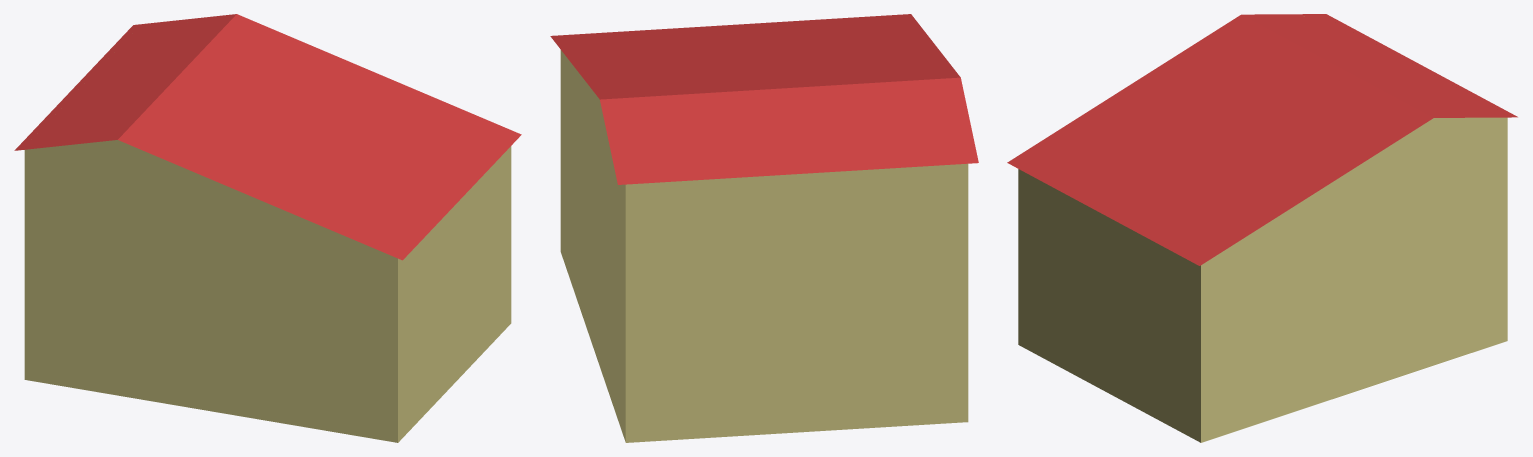
The picture shows the model from 3 angles, left to right: view 1: azimuth 30°, elevation 25°; view 2: azimuth 150°, elevation 25°; view 3: azimuth 270°, elevation 25°; orthographic projection. The views are drawn at different scales.
Bounding box in the file's own units: 15.56 × 16.06 × 8.72.
